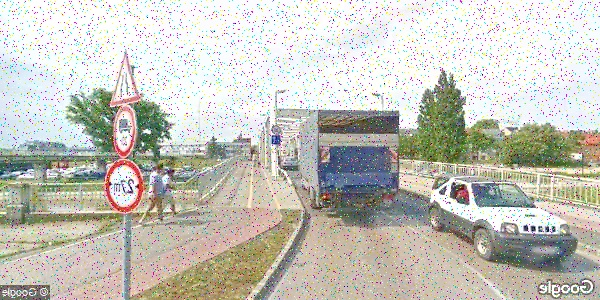f_others: (104, 159, 144, 212), (113, 105, 137, 158)
